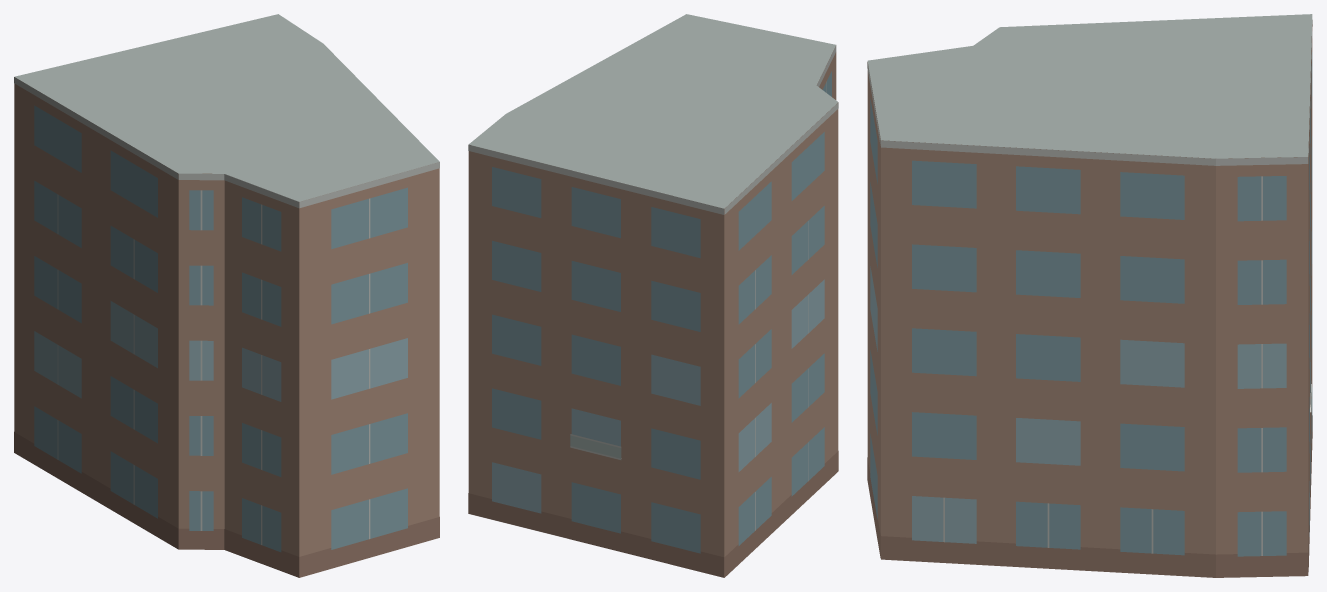
File: survey-upis-33009779.glb
3 views of the same model, side by side, from view 1: azimuth 30°, elevation 25°; view 2: azimuth 150°, elevation 25°; view 3: azimuth 270°, elevation 25° (orthographic). The views are drawn at different scales.
Parts seen in each view (by area): view 1: survey-upis-33009779.tmp; view 2: survey-upis-33009779.tmp; view 3: survey-upis-33009779.tmp.
Part boxes in pixels (x1,y1,x2,y2): survey-upis-33009779.tmp: [14, 14, 439, 577]; survey-upis-33009779.tmp: [468, 14, 838, 577]; survey-upis-33009779.tmp: [867, 14, 1312, 577].
Size of the model in its own units: 10.52 by 14.2 by 13.67.
